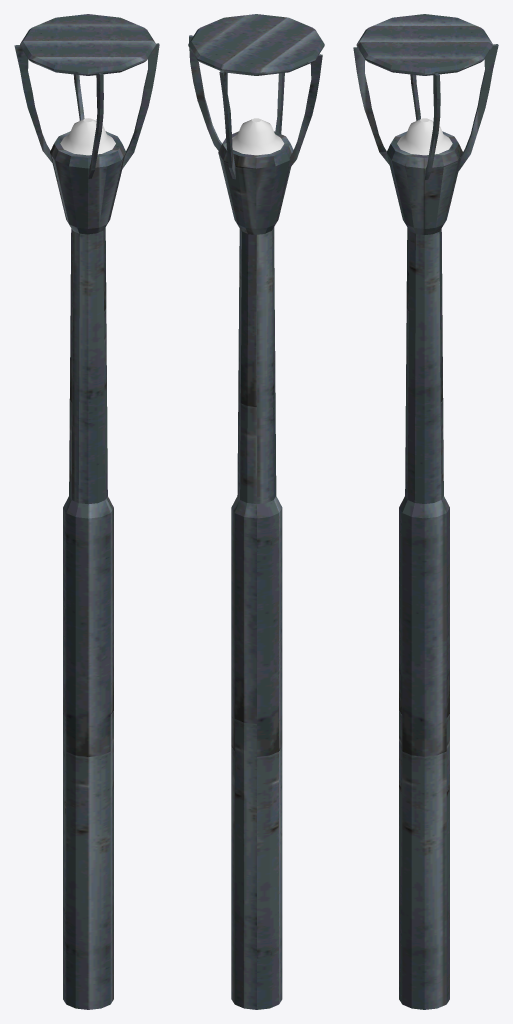
Rendered from farolLuz_moderno_otraTextura_withEmission.fbx.
3 renders of one model, left to right at view 1: azimuth 90°, elevation 25°; view 2: azimuth 150°, elevation 25°; view 3: azimuth 270°, elevation 25°, orthographic.
Parts seen in each view (by area): view 1: Farol_Plaza otra Textura; view 2: Farol_Plaza otra Textura; view 3: Farol_Plaza otra Textura.
Part boxes in pixels (x1,y1,x2,y2): Farol_Plaza otra Textura: (14, 14, 159, 1009); Farol_Plaza otra Textura: (188, 14, 324, 1009); Farol_Plaza otra Textura: (353, 14, 498, 1009).
Size of the model in its own units: 1.39 by 10.54 by 1.45.
